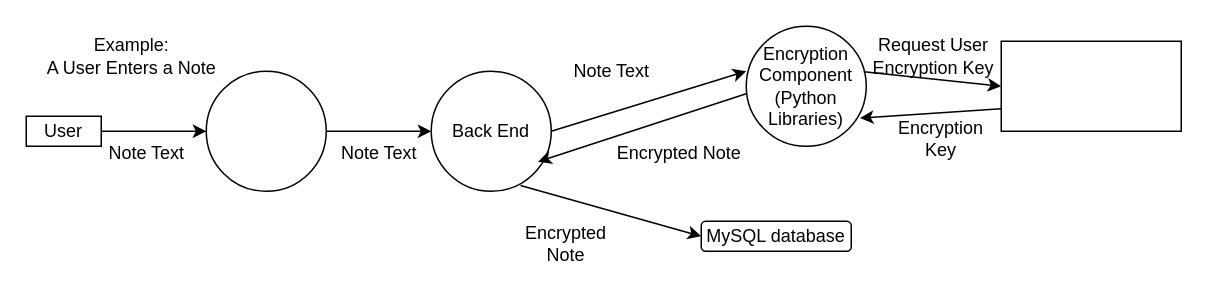
Image size: 1208x293. Some labels were removed from this diagram. The box of each missing label's shape, as (x1, y1, x2, y2) in pixels:
Front End (note entry interface): (205, 70, 326, 191)
Key Management API (Possible): (1000, 40, 1181, 131)
